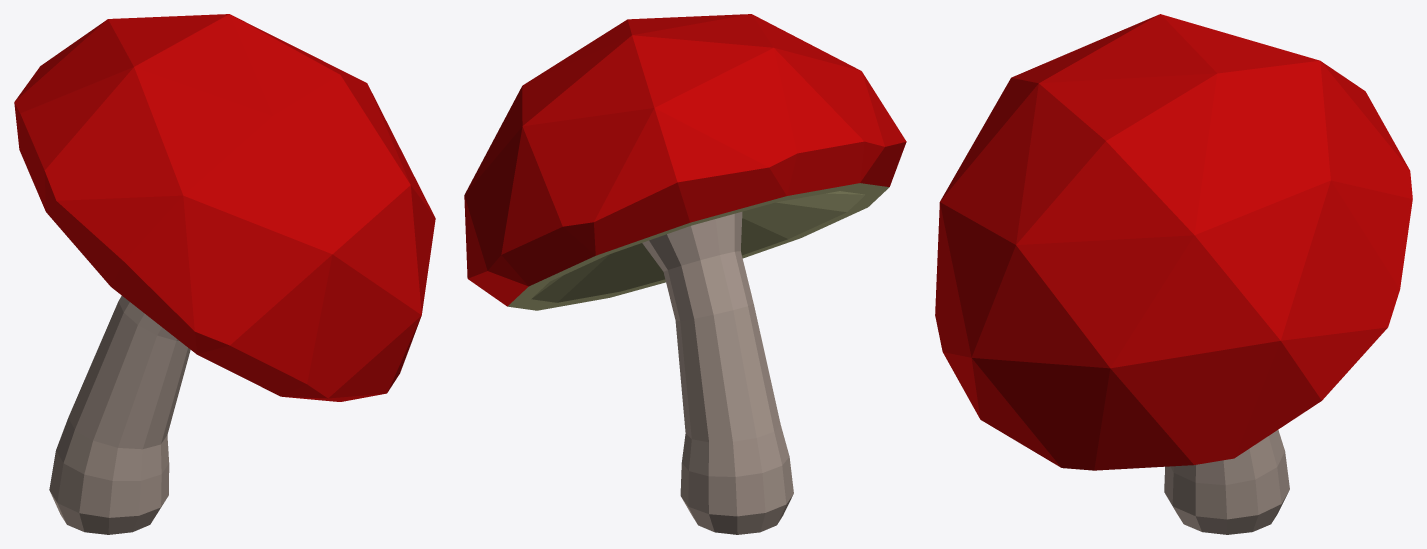
File: Mushroom_01.fbx
3 renders of one model, left to right at view 1: azimuth 30°, elevation 25°; view 2: azimuth 150°, elevation 25°; view 3: azimuth 270°, elevation 25°, orthographic. The views are drawn at different scales.
Parts seen in each view (by area): view 1: Mushroom_001; view 2: Mushroom_001; view 3: Mushroom_001.
Boxes of the visible parts, x1,y1,x2,y2 form: Mushroom_001: (14,14,435,534); Mushroom_001: (464,14,906,534); Mushroom_001: (935,14,1412,534).
Size of the model in its own units: 5.12 by 6.2 by 5.38.
